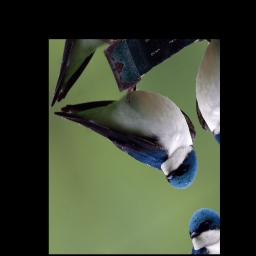Swallow: (52, 42, 213, 241)
